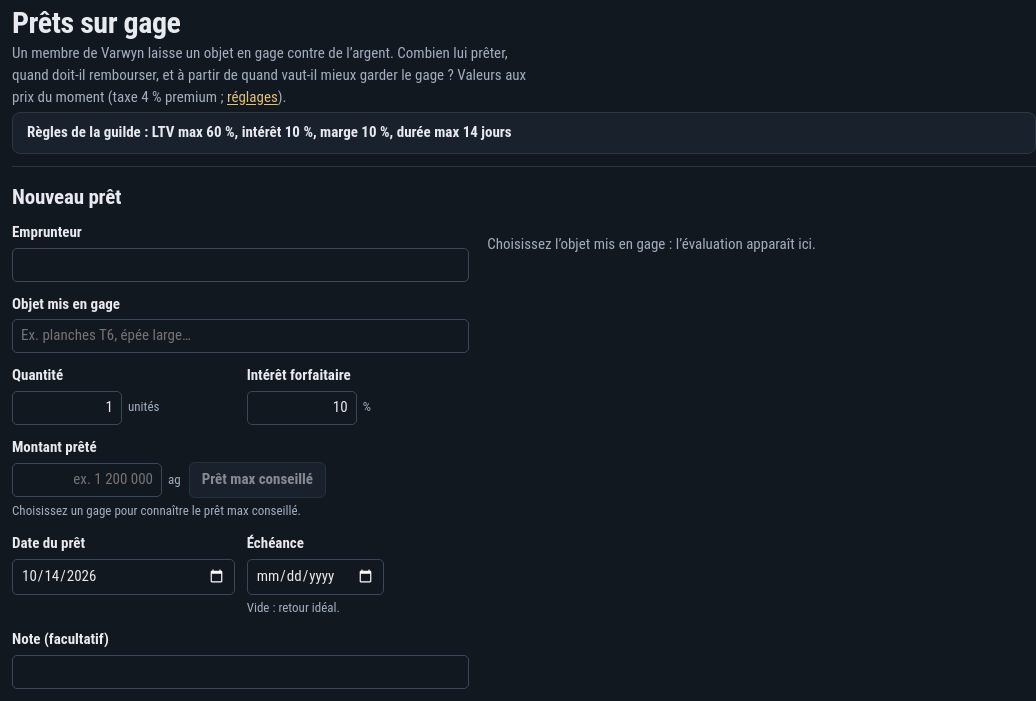
it: page Prêts sur gage — évaluation › objet sans prix : le dire, aucun montant inventé
Type "frêne" into the search field labelled "Objet mis en gage" at point(241, 336), box 12,319 -> 469,353
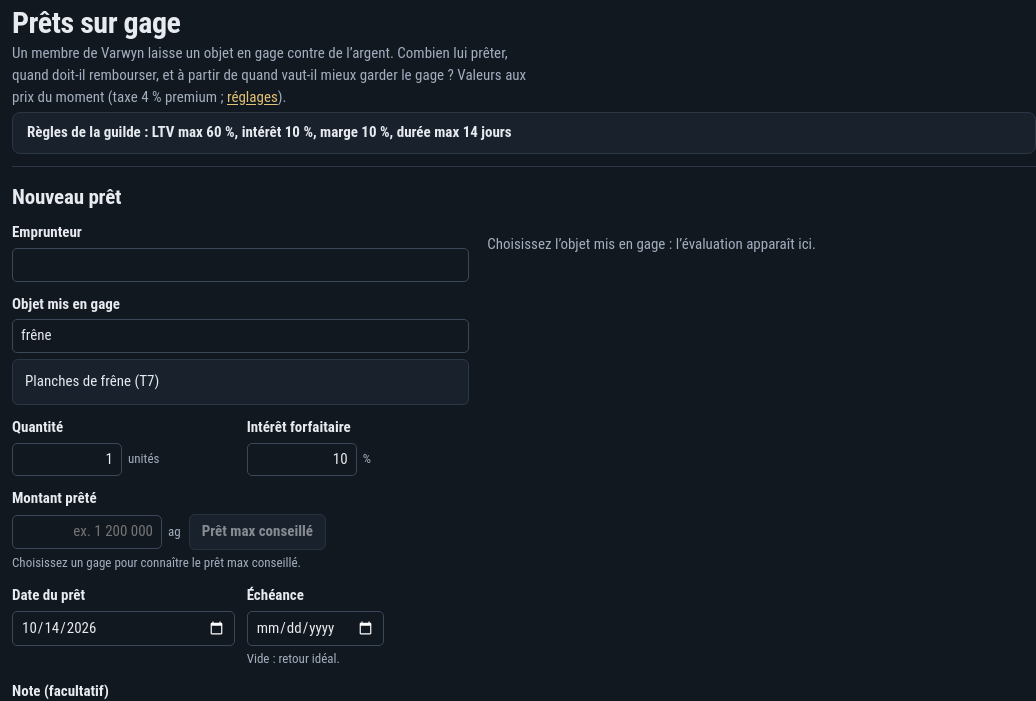
Click the button "Planches de frêne (T7)" at point(92, 381), box 17,364 -> 464,400
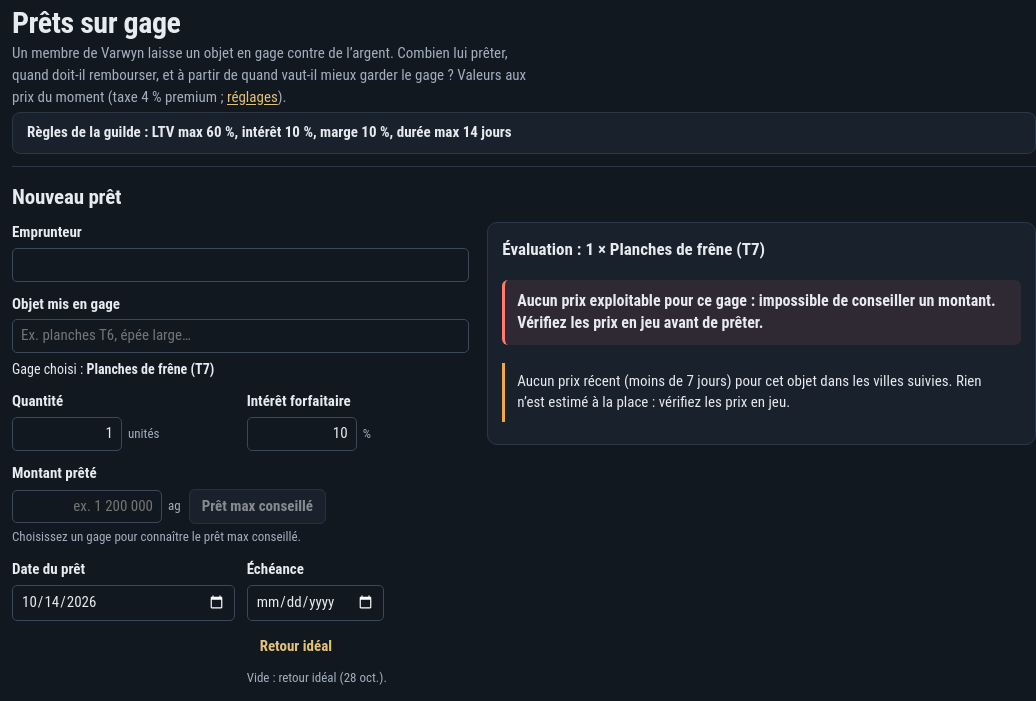
Expected: the button "Prêt max conseillé" is disabled, 189,489 -> 326,524
Result: the text with test id "gl-verdict" shows "Aucun prix exploitable pour ce gage" at 517,291 -> 996,332
Result: the text "Rien n’est estimé à la place" is shown at 517,372 -> 982,411
